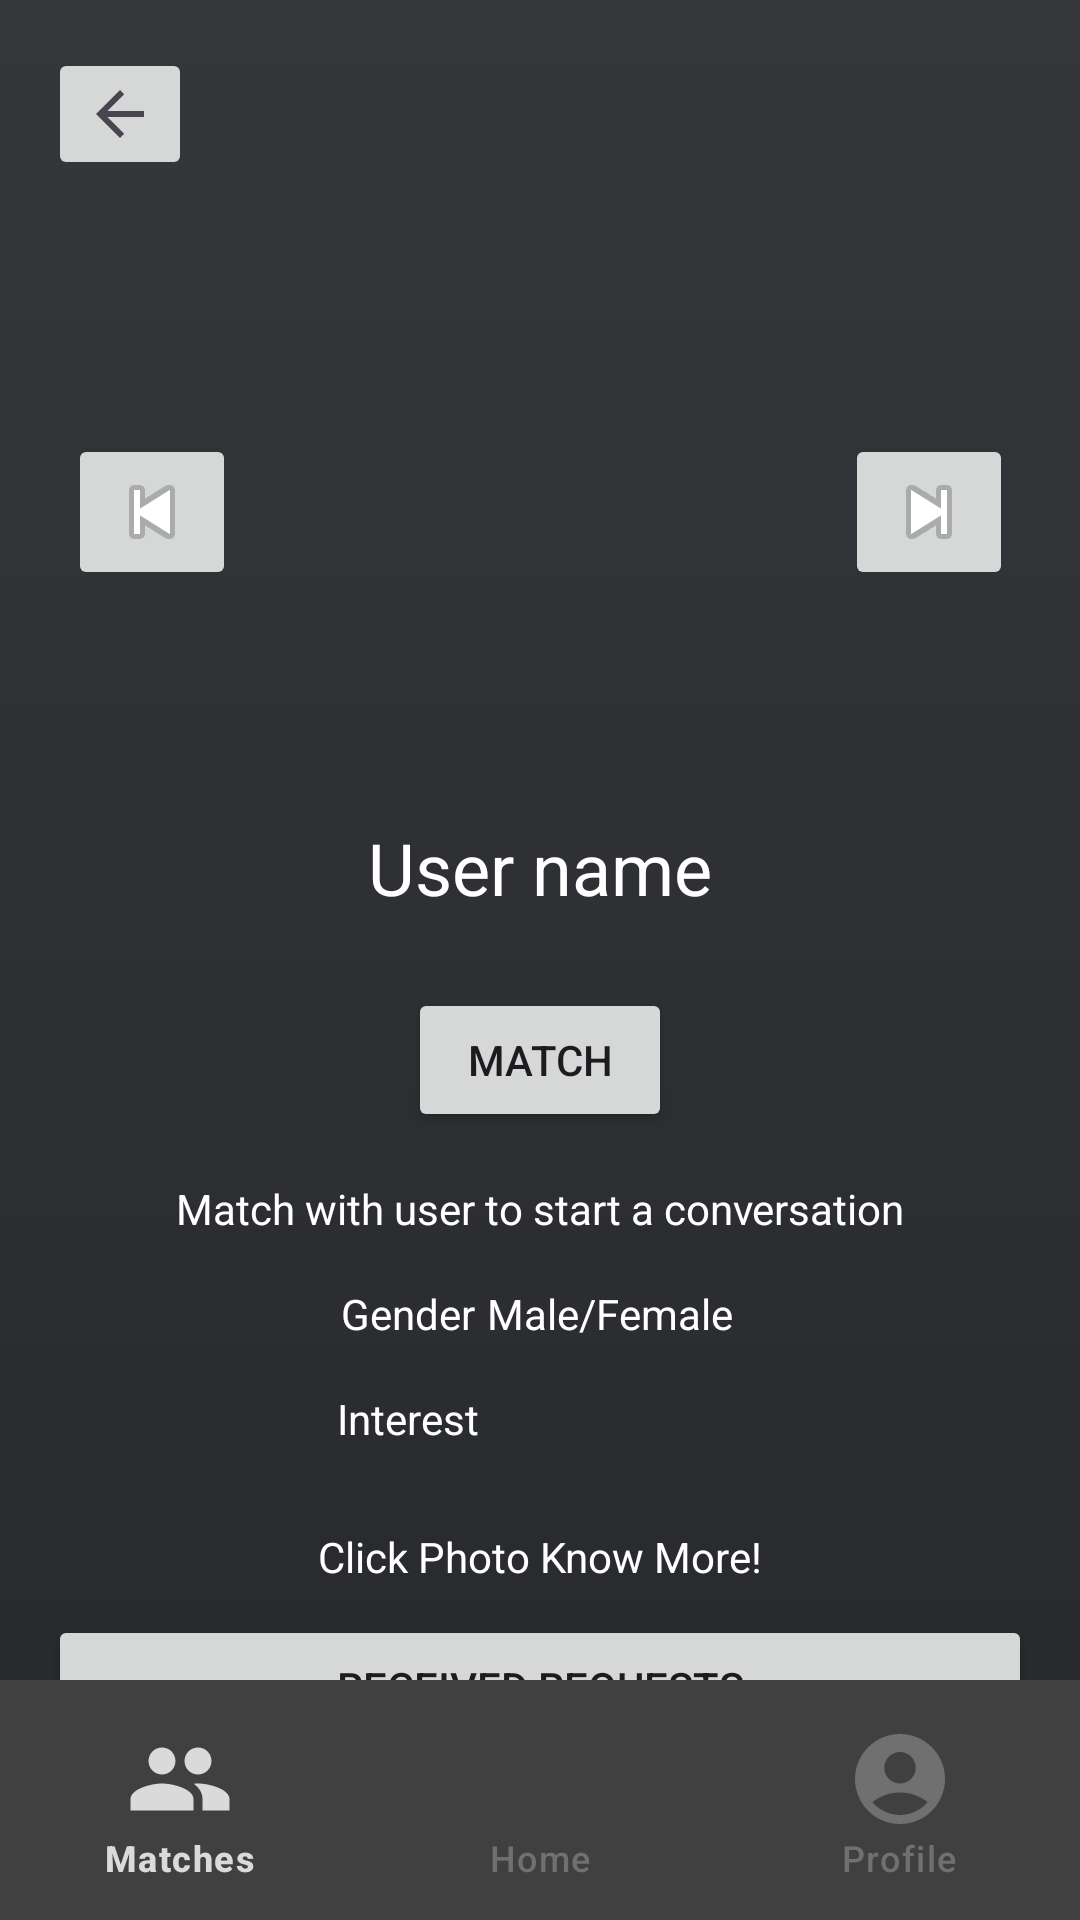

Where icons sit on this 1080 x 1920 app screen, as (x1, y1, x2, y2):
Go back: (60, 66, 180, 162)
Next person: (857, 452, 1001, 572)
Previous person: (80, 452, 224, 572)
